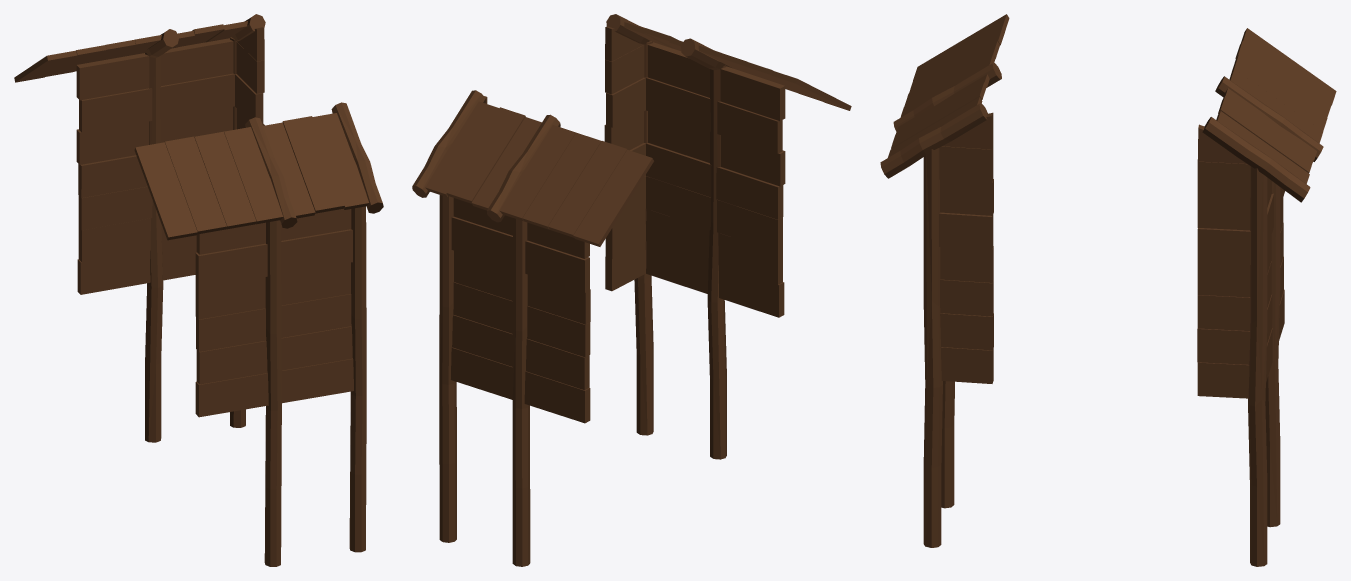
The model's file is env_caveExit.fbx.
The picture shows the model from 3 angles, left to right: view 1: azimuth 30°, elevation 25°; view 2: azimuth 150°, elevation 25°; view 3: azimuth 270°, elevation 25°; orthographic projection. The views are drawn at different scales.
Parts seen in each view (by area): view 1: prisonP1-lowpoly.001; view 2: prisonP1-lowpoly.001; view 3: prisonP1-lowpoly.001.
Part boxes in pixels (left/top/right/bottom): prisonP1-lowpoly.001: left=14, top=14, right=383, bottom=566; prisonP1-lowpoly.001: left=412, top=14, right=851, bottom=566; prisonP1-lowpoly.001: left=880, top=14, right=1336, bottom=566.
Bounding box in the file's own units: 6.32 × 10.45 × 9.74.
